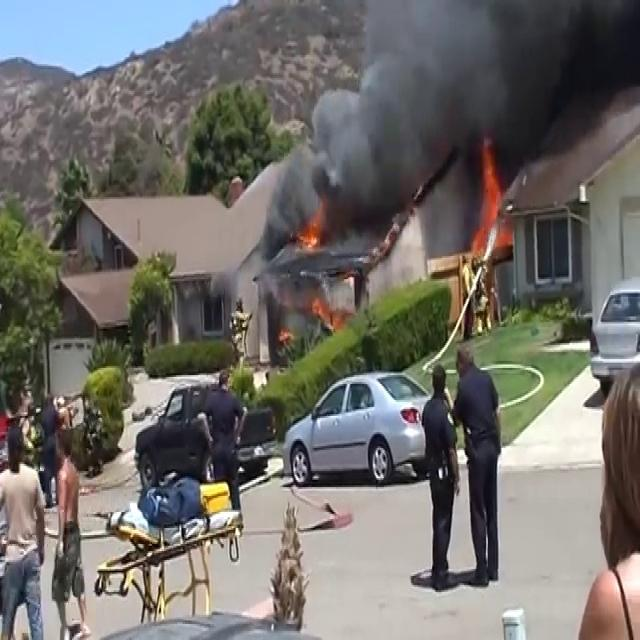Fire: (472, 143, 507, 259), (297, 210, 323, 254)
Smoke: (269, 1, 640, 251), (267, 0, 529, 252)
